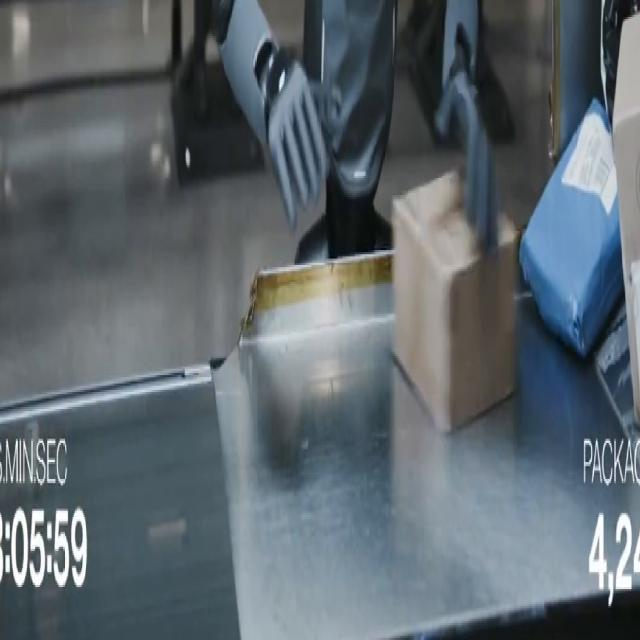package: (393, 172, 517, 432), (520, 100, 622, 358), (614, 15, 639, 419), (601, 0, 639, 122)
